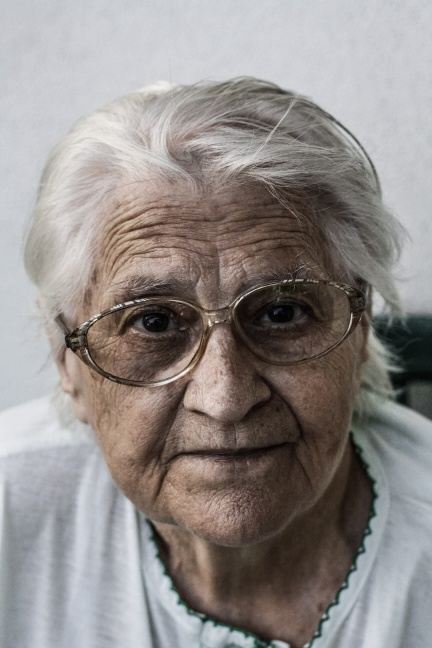Forehead: (68, 179, 365, 292)
